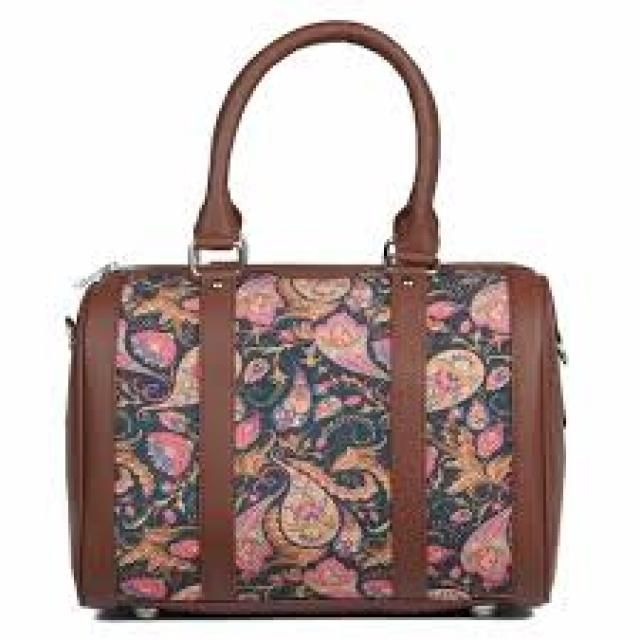handbag: (63, 17, 566, 617)
